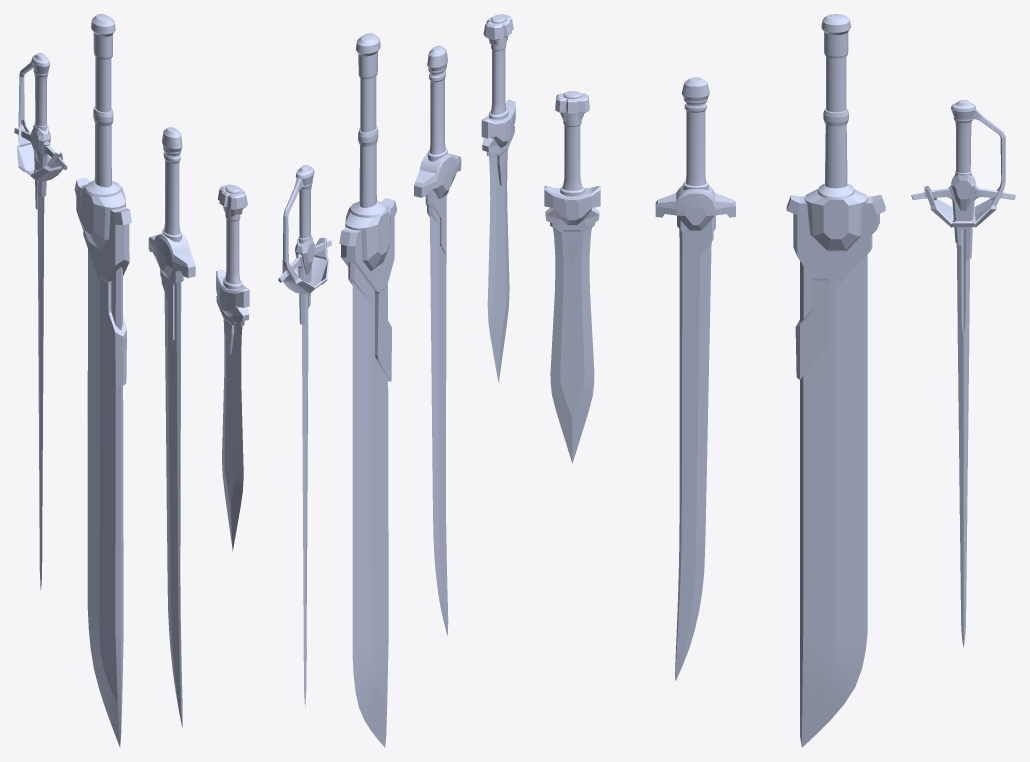
The picture shows the model from 3 angles, left to right: view 1: azimuth 30°, elevation 25°; view 2: azimuth 150°, elevation 25°; view 3: azimuth 270°, elevation 25°; orthographic projection.
Parts seen in each view (by area): view 1: RB_Sword_Pack_01; view 2: RB_Sword_Pack_01; view 3: RB_Sword_Pack_01.
Boxes of the visible parts, left/top/right/bottom form: RB_Sword_Pack_01: left=14, top=14, right=249, bottom=746; RB_Sword_Pack_01: left=278, top=14, right=515, bottom=747; RB_Sword_Pack_01: left=544, top=14, right=1015, bottom=747.
Bounding box in the file's own units: 0.0961 × 2 × 1.17.
